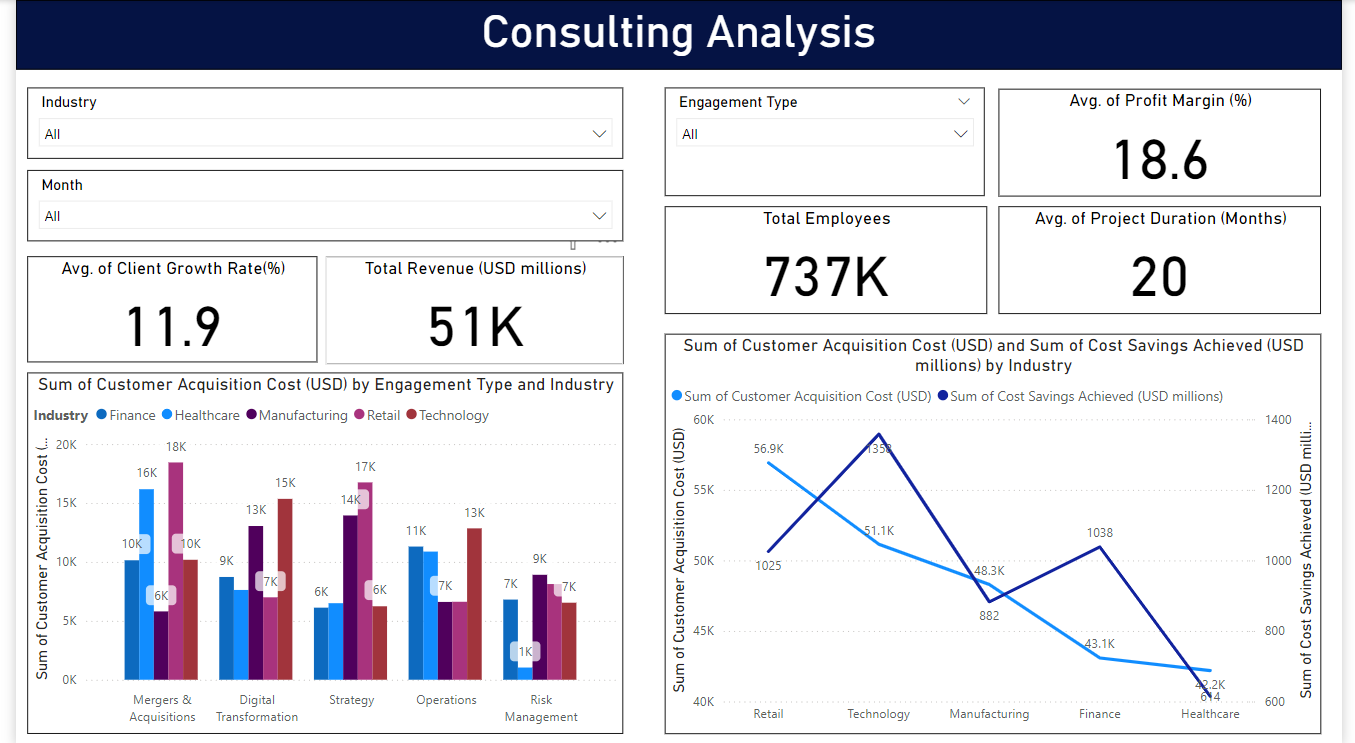

What the dashboard file says about the page in this screenshot:
{"tool":"powerbi","page":{"name":"Page 1","canvas":[1280,720],"ordinal":0},"visuals":[{"type":"card","title":"Total Revenue (USD millions)","fields":{"Values":["Sum(consulting_analysis_extended_dataset.Revenue (USD millions))"]},"box":[299.2,247.3,287.1,103.8],"z":0},{"type":"card","title":"Avg. of Profit Margin (%)","fields":{"Values":["Avg(consulting_analysis_extended_dataset.Profit Margin (%))"]},"box":[948.3,85.7,311.3,103.8],"z":2000},{"type":"slicer","fields":{"Values":["consulting_analysis_extended_dataset.Industry"]},"box":[10.9,84.5,575.5,68.8],"z":3000},{"type":"card","title":"Avg. of Project Duration (Months)","fields":{"Values":["Avg(consulting_analysis_extended_dataset.Project Duration (months))"]},"box":[948.3,199.1,311.3,103.8],"z":4000},{"type":"card","title":"Total Employees","fields":{"Values":["Sum(consulting_analysis_extended_dataset.Employee Count)"]},"box":[626.1,199.1,311.3,103.8],"z":5000},{"type":"lineChart","fields":{"Y":["Sum(consulting_analysis_extended_dataset.Customer Acquisition Cost (USD))"],"Category":["consulting_analysis_extended_dataset.Industry"],"Y2":["Sum(consulting_analysis_extended_dataset.Cost Savings Achieved (USD millions))"]},"box":[626.1,322.1,633.4,386.1],"z":6000},{"type":"slicer","fields":{"Values":["consulting_analysis_extended_dataset.Engagement Type"]},"box":[626.1,84.5,308.8,105],"z":7000},{"type":"card","title":"Avg. of Client Growth Rate(%)","fields":{"Values":["Avg(consulting_analysis_extended_dataset.Client Growth Rate (%))"]},"box":[10.9,247.3,279.9,102.5],"z":8000},{"type":"textbox","box":[0,0,1280,67.6],"z":9000},{"type":"lineClusteredColumnComboChart","fields":{"Category":["consulting_analysis_extended_dataset.Engagement Type"],"Y":["Sum(consulting_analysis_extended_dataset.Customer Acquisition Cost (USD))"],"Series":["consulting_analysis_extended_dataset.Industry"]},"box":[10.9,359.5,575.5,348.7],"z":10000},{"type":"slicer","fields":{"Values":["consulting_analysis_extended_dataset.Engagement Start Date.Variation.Date Hierarchy.Month"]},"box":[10.9,164.1,575.5,68.8],"z":11000}]}

Visuals, with their boxes in screenshot pixels (x1, y1, x2, y2), scaled from the page's 1280x720 canvas onto the 1355x743 screenshot:
"Total Revenue (USD millions)" card: [317, 255, 621, 362]
"Avg. of Profit Margin (%)" card: [1004, 88, 1333, 196]
slicer - consulting_analysis_extended_dataset.Industry: [12, 87, 621, 158]
"Avg. of Project Duration (Months)" card: [1004, 205, 1333, 313]
"Total Employees" card: [663, 205, 992, 313]
lineChart - Sum(consulting_analysis_extended_dataset.Customer Acquisition Cost (USD)) x consulting_analysis_extended_dataset.Industry: [663, 332, 1333, 731]
slicer - consulting_analysis_extended_dataset.Engagement Type: [663, 87, 990, 196]
"Avg. of Client Growth Rate(%)" card: [12, 255, 308, 361]
textbox: [0, 0, 1354, 70]
lineClusteredColumnComboChart - consulting_analysis_extended_dataset.Engagement Type x Sum(consulting_analysis_extended_dataset.Customer Acquisition Cost (USD)): [12, 371, 621, 731]
slicer - consulting_analysis_extended_dataset.Engagement Start Date.Variation.Date Hierarchy.Month: [12, 169, 621, 240]
